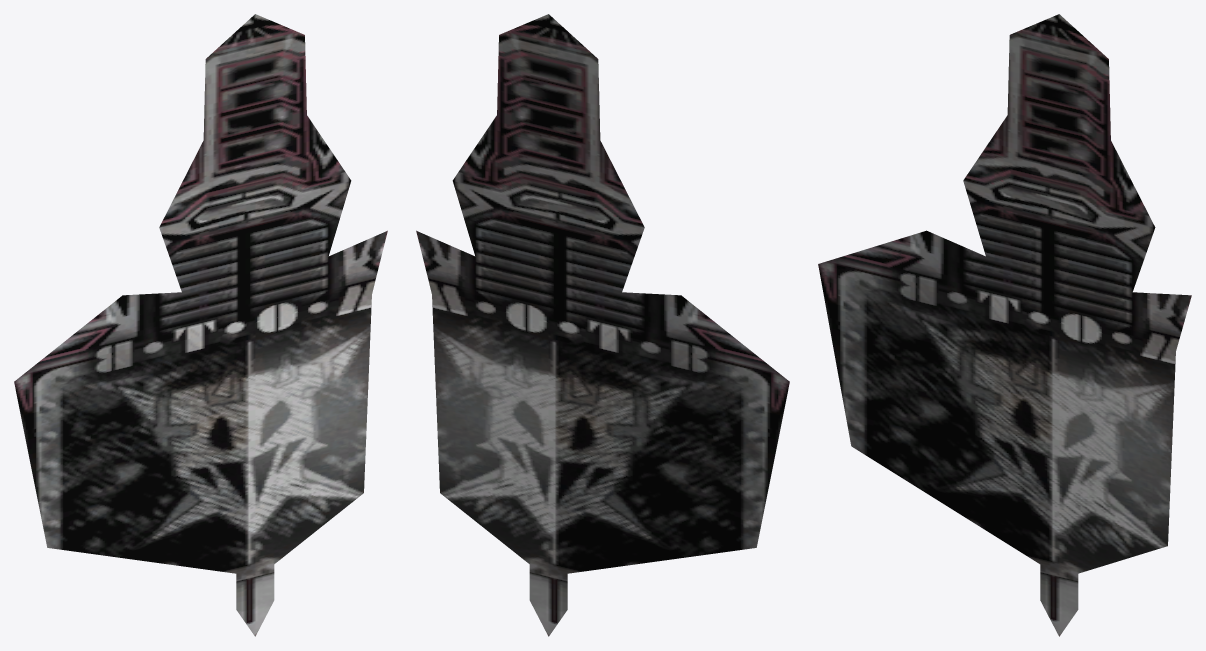
The model's file is mob.glb.
3 views of the same model, side by side, from view 1: azimuth 30°, elevation 25°; view 2: azimuth 150°, elevation 25°; view 3: azimuth 330°, elevation 25° (orthographic).
Visible parts, largest first — view 1: Line02; view 2: Line02; view 3: Line02.
Part boxes in pixels (x1,y1,x2,y2): Line02: [14, 14, 387, 636]; Line02: [416, 14, 789, 636]; Line02: [818, 14, 1191, 636].
Size of the model in its own units: 3.27 by 5.21 by 1e-06.
Materials: 1 (1 with a texture image).
